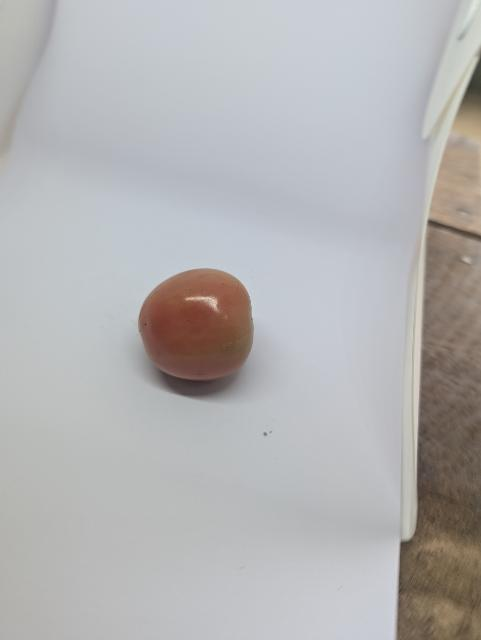turning: (129, 260, 265, 384)
